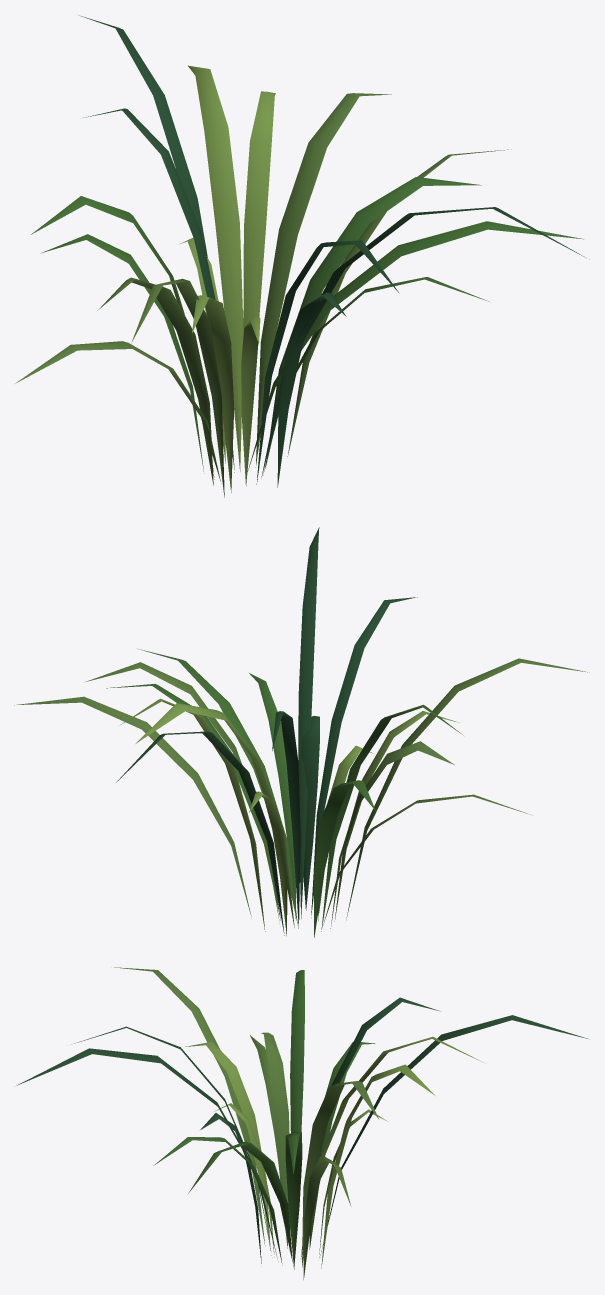
Rendered from meadow_grass_tall.glb.
3 views of the same model, one above another, from view 1: azimuth 30°, elevation 25°; view 2: azimuth 150°, elevation 25°; view 3: azimuth 270°, elevation 25° (orthographic). The views are drawn at different scales.
Parts seen in each view (by area): view 1: body; view 2: body; view 3: body.
Part boxes in pixels (x1,y1,x2,y2): body: (15, 15, 589, 497); body: (14, 527, 589, 937); body: (16, 967, 587, 1279).
Size of the model in its own units: 0.9791 by 0.5584 by 1.14.
